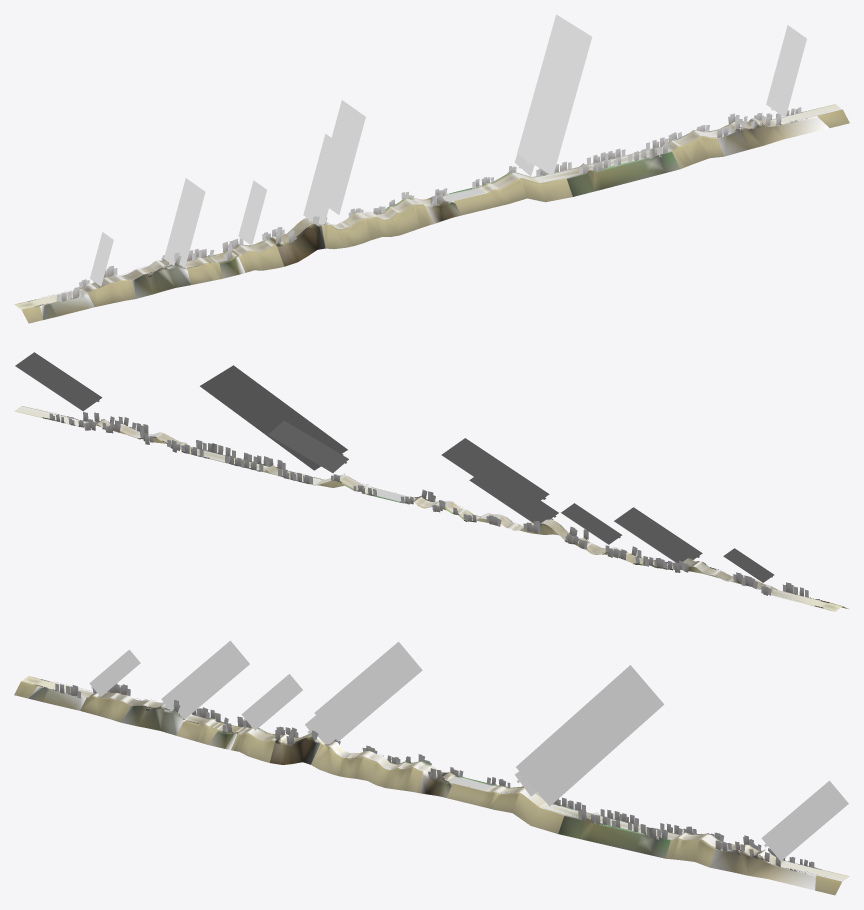
File: Beach_02.fbx
3 views of the same model, one above another, from view 1: azimuth 30°, elevation 25°; view 2: azimuth 150°, elevation 25°; view 3: azimuth 330°, elevation 25° (orthographic).
Visible parts, largest first — view 1: Light_01, Ground_01, Mountain_01, Road_01, Tree_01; view 2: Light_01, Tree_01, Road_01, Ground_01; view 3: Light_01, Ground_01, Mountain_01, Tree_01, Road_01.
Part boxes in pixels (left/top/right/bottom): Light_01: left=90, top=14, right=806, bottom=286; Ground_01: left=14, top=104, right=849, bottom=323; Mountain_01: left=40, top=116, right=829, bottom=319; Road_01: left=15, top=104, right=841, bottom=309; Tree_01: left=44, top=107, right=807, bottom=305; Light_01: left=15, top=352, right=774, bottom=582; Tree_01: left=42, top=412, right=821, bottom=600; Road_01: left=15, top=406, right=841, bottom=610; Ground_01: left=14, top=406, right=848, bottom=611; Light_01: left=89, top=640, right=848, bottom=860; Ground_01: left=14, top=676, right=849, bottom=895; Mountain_01: left=28, top=686, right=816, bottom=890; Tree_01: left=42, top=683, right=821, bottom=873; Road_01: left=22, top=676, right=848, bottom=881.
Size of the model in its own units: 86219 by 14389 by 8091.
